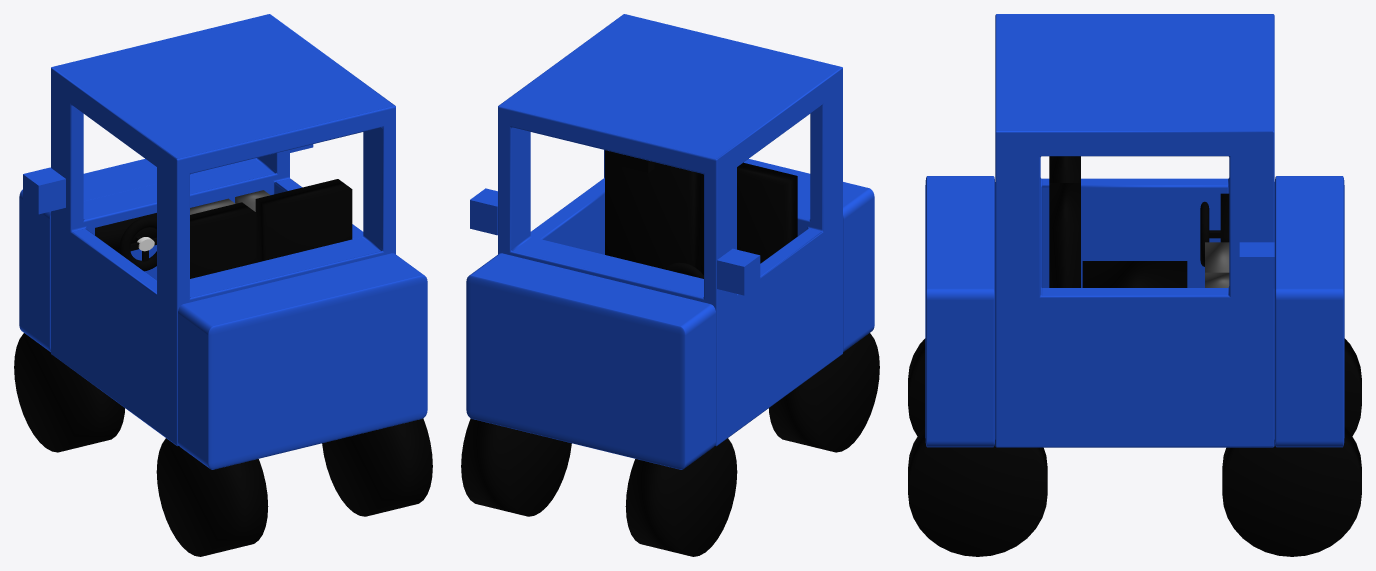
File: Car2.glb
3 renders of one model, left to right at view 1: azimuth 30°, elevation 25°; view 2: azimuth 150°, elevation 25°; view 3: azimuth 270°, elevation 25°, orthographic. The views are drawn at different scales.
Visible parts, largest first — view 1: Cube, Cylinder.001, Cylinder.003, Cylinder, Seat.001, Seat, Mirror, Steering Wheel, Cube.007; view 2: Cube, Cylinder, Seat.001, Cylinder.002, Cylinder.001, Seat, Mirror, Mirror.001, Car Mirror; view 3: Cube, Cylinder.002, Cylinder.003, Seat, Seat.001, Mirror.001, Cylinder, Cylinder.001, Cube.003, Steering Wheel.
Part boxes in pixels (x1=…): Cube: x1=19, y1=14, x2=427, y2=469; Cylinder.001: x1=156, y1=438, x2=268, y2=556; Cylinder.003: x1=322, y1=418, x2=432, y2=516; Cylinder: x1=14, y1=333, x2=124, y2=452; Seat.001: x1=255, y1=179, x2=352, y2=262; Seat: x1=190, y1=202, x2=256, y2=278; Mirror: x1=23, y1=167, x2=65, y2=214; Steering Wheel: x1=119, y1=216, x2=156, y2=271; Cube.007: x1=95, y1=213, x2=156, y2=253; Cube: x1=466, y1=14, x2=874, y2=469; Cylinder: x1=625, y1=438, x2=737, y2=556; Seat.001: x1=605, y1=150, x2=700, y2=271; Cylinder.002: x1=461, y1=418, x2=571, y2=516; Cylinder.001: x1=769, y1=333, x2=879, y2=452; Seat: x1=701, y1=162, x2=797, y2=274; Mirror: x1=717, y1=248, x2=760, y2=295; Mirror.001: x1=470, y1=188, x2=497, y2=235; Car Mirror: x1=607, y1=150, x2=654, y2=173; Cube: x1=925, y1=14, x2=1344, y2=447; Cylinder.002: x1=1222, y1=427, x2=1361, y2=556; Cylinder.003: x1=908, y1=427, x2=1047, y2=556; Seat: x1=1049, y1=156, x2=1187, y2=287; Seat.001: x1=1049, y1=183, x2=1080, y2=287; Mirror.001: x1=1239, y1=242, x2=1274, y2=288; Cylinder: x1=1344, y1=338, x2=1361, y2=435; Cylinder.001: x1=908, y1=338, x2=925, y2=435; Cube.003: x1=1205, y1=242, x2=1229, y2=272; Steering Wheel: x1=1200, y1=201, x2=1220, y2=266.
Size of the model in its own units: 20 by 27 by 26.
